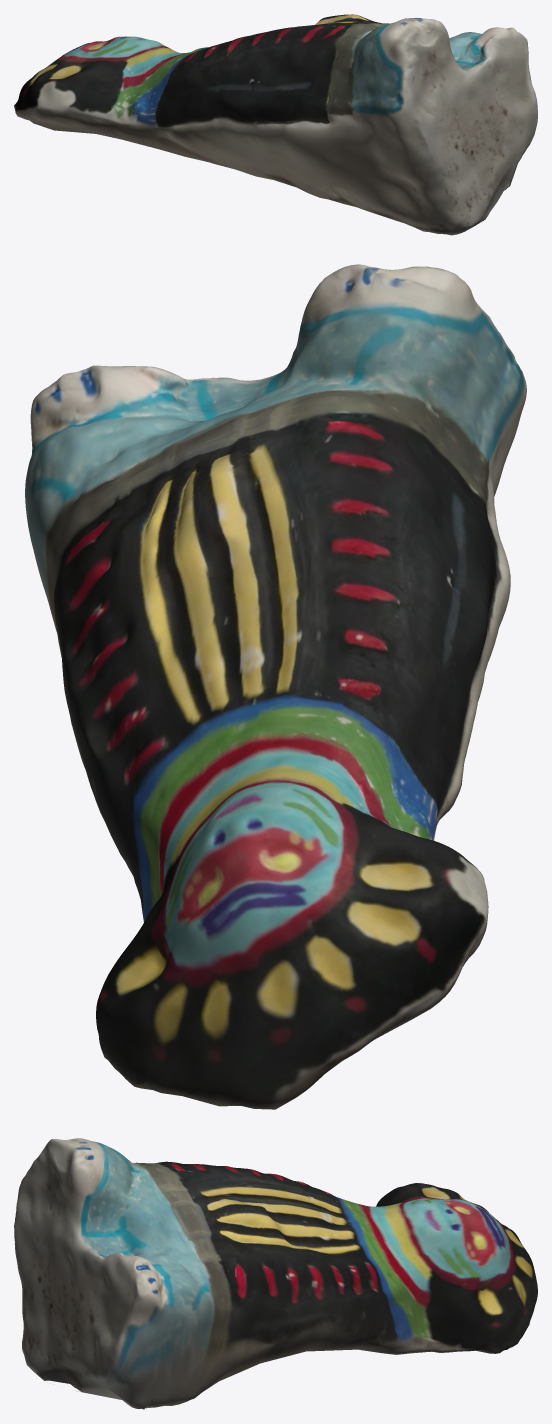
3 views of the same model, one above another, from view 1: azimuth 30°, elevation 25°; view 2: azimuth 150°, elevation 25°; view 3: azimuth 270°, elevation 25° (orthographic). The views are drawn at different scales.
Size of the model in its own units: 0.6231 by 0.3877 by 0.7562.
Materials: 1 (1 with a texture image).
